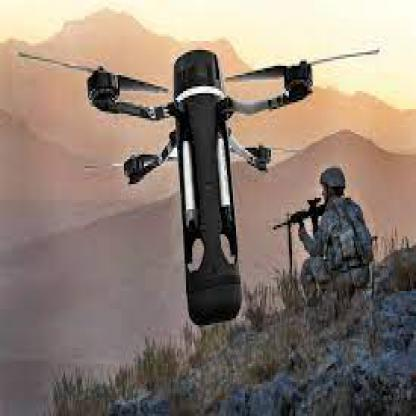UAS: (15, 51, 378, 326)
